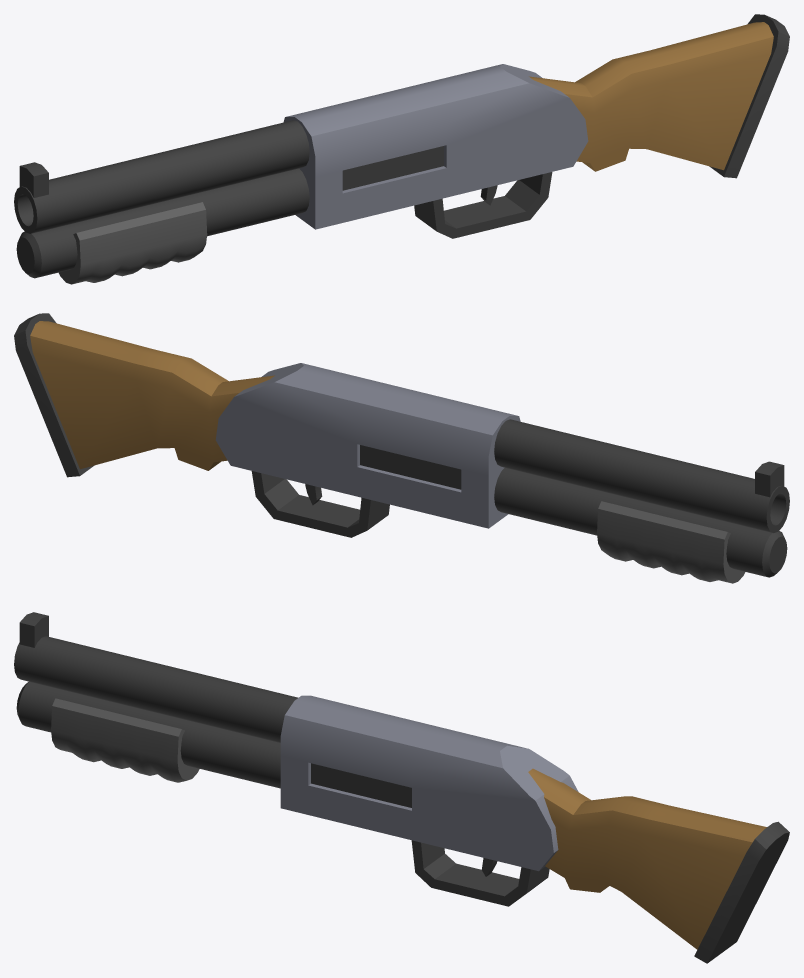
The model's file is shotgun.glb.
3 views of the same model, one above another, from view 1: azimuth 30°, elevation 25°; view 2: azimuth 150°, elevation 25°; view 3: azimuth 330°, elevation 25° (orthographic).
Parts seen in each view (by area): view 1: Shotgun; view 2: Shotgun; view 3: Shotgun.
Part boxes in pixels (box(x1,y1,x2,y2)): Shotgun: box(14, 14, 789, 284); Shotgun: box(14, 313, 789, 583); Shotgun: box(14, 612, 789, 963).
Bounding box in the file's own units: 1.55 × 0.3308 × 0.1225.
